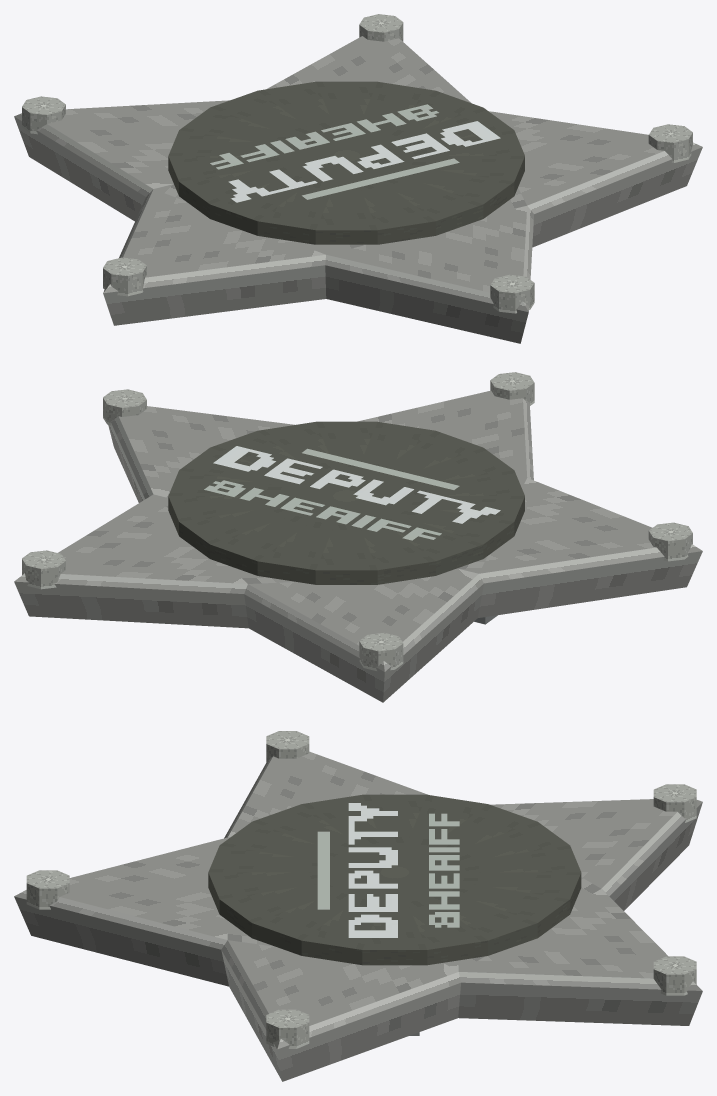
Rendered from badge_deputy.glb.
3 views of the same model, one above another, from view 1: azimuth 30°, elevation 25°; view 2: azimuth 150°, elevation 25°; view 3: azimuth 270°, elevation 25° (orthographic). The views are drawn at different scales.
Visible parts, largest first — view 1: block_beveled badge body, block_raised enamel medallion, block_original printed emblem, block_rounded star tip (×5); view 2: block_beveled badge body, block_raised enamel medallion, block_original printed emblem, block_rounded star tip (×5); view 3: block_beveled badge body, block_raised enamel medallion, block_original printed emblem, block_rounded star tip (×5).
Part boxes in pixels (x1,y1,x2,y2): block_beveled badge body: [14, 36, 702, 343]; block_raised enamel medallion: [168, 81, 524, 244]; block_original printed emblem: [210, 104, 500, 202]; block_rounded star tip (×5): [22, 14, 692, 313]; block_beveled badge body: [14, 390, 702, 702]; block_raised enamel medallion: [168, 421, 524, 584]; block_original printed emblem: [204, 446, 500, 540]; block_rounded star tip (×5): [22, 372, 692, 670]; block_beveled badge body: [14, 751, 702, 1081]; block_raised enamel medallion: [208, 794, 581, 965]; block_original printed emblem: [317, 803, 459, 937]; block_rounded star tip (×5): [26, 731, 696, 1048].
Bounding box in the file's own units: 0.0362 × 0.00489 × 0.0344.
3 materials, 3 textured.
